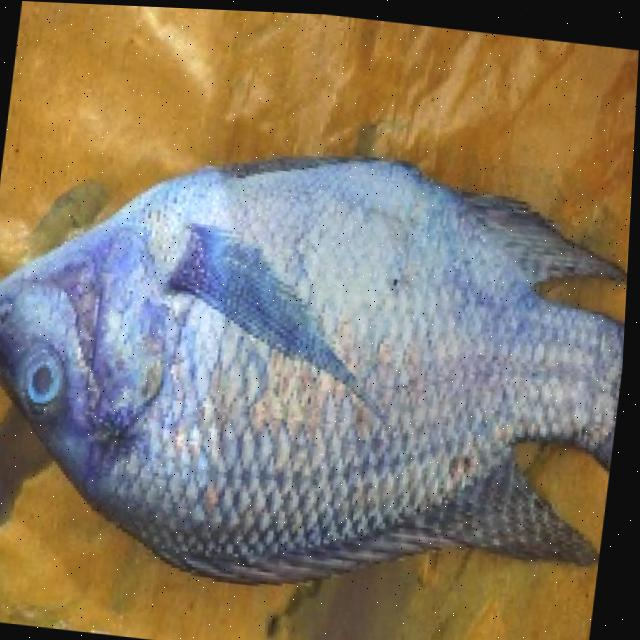Non-Fresh: (65, 172, 547, 572), (14, 336, 84, 422)
